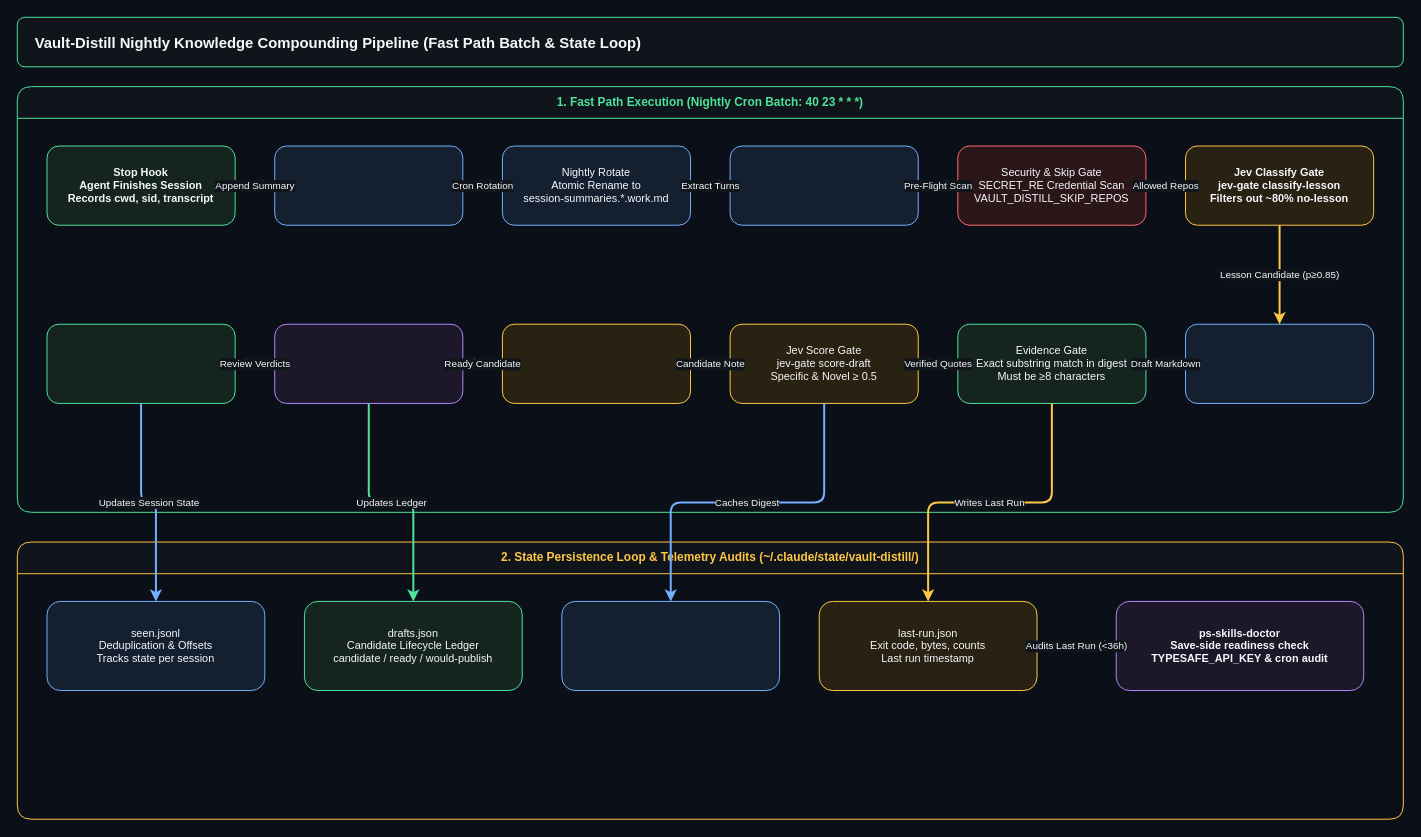
This 1421x837 diagram has some shape labels left out. The centre of each missing label's shape, as x and y in pixels:
"Argon-Low Review gemini-4-argon-low Final verdict: publish / reject" goes at (x=368, y=363).
"Digest Builder User prompt + assistant end Cut to ≤12KB (Head/Tail)" goes at (x=823, y=185).
"digests/*.txt Persisted Raw Session Digests Audit & Quarantine Cache" goes at (x=670, y=645).
"Flash Extract gemini-3.8-flash-high (plan) Renders Draft (≤1500 B)" goes at (x=1279, y=363).
"Jev Same-Lesson Recurrence Match (≥0.85) or High-Stakes (≥0.85)" goes at (x=596, y=363).
"Live Inbox _inbox/agent/ session-summaries.md" goes at (x=368, y=185).
"Morning Report _inbox/agent/distill/report-*.md Shadow Mode: would-publish" goes at (x=140, y=363).
